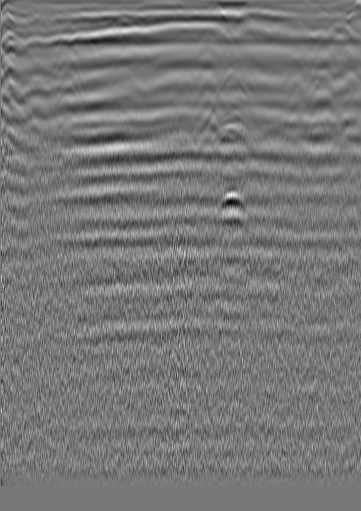가스: (219, 186, 247, 213)
상수: (308, 19, 328, 39)
오수: (28, 13, 48, 33)
우수: (173, 29, 193, 49)
